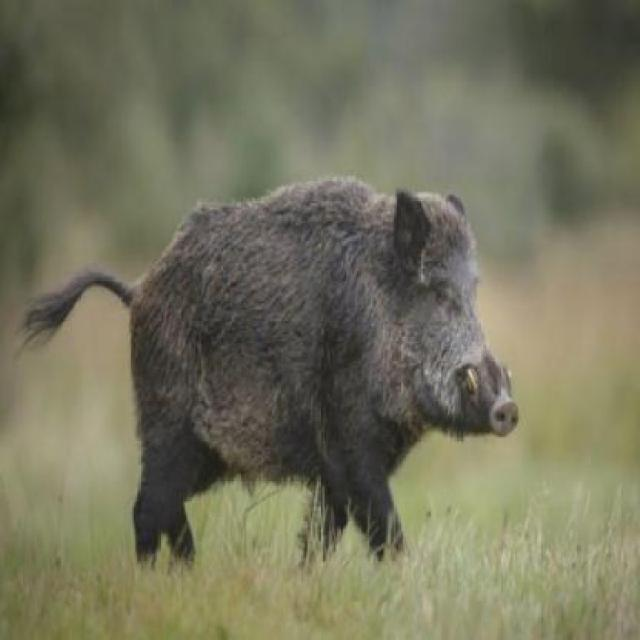wildboar: (16, 167, 522, 576)
